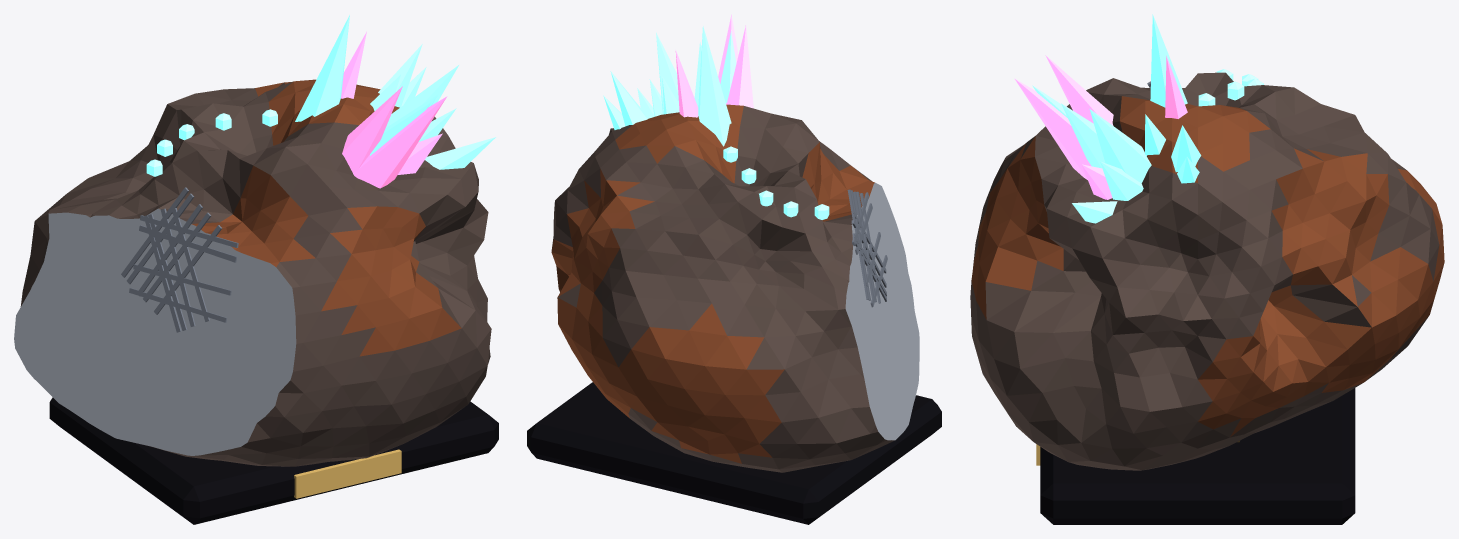
File: meteorito.glb
The picture shows the model from 3 angles, left to right: view 1: azimuth 30°, elevation 25°; view 2: azimuth 150°, elevation 25°; view 3: azimuth 270°, elevation 25°; orthographic projection. The views are drawn at different scales.
Parts seen in each view (by area): view 1: meteorito; view 2: meteorito; view 3: meteorito.
Part boxes in pixels (x1,y1,x2,y2): meteorito: (14, 15, 498, 524); meteorito: (527, 14, 941, 524); meteorito: (970, 14, 1444, 524).
Size of the model in its own units: 0.3722 by 0.3887 by 0.3613.
